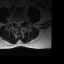CCS_normal: (17, 18, 19, 27)
LFS_normal: (21, 17, 24, 25)
LLS_normal: (19, 17, 21, 26)
RFS_normal: (12, 17, 15, 25)
RLS_normal: (15, 17, 17, 27)
